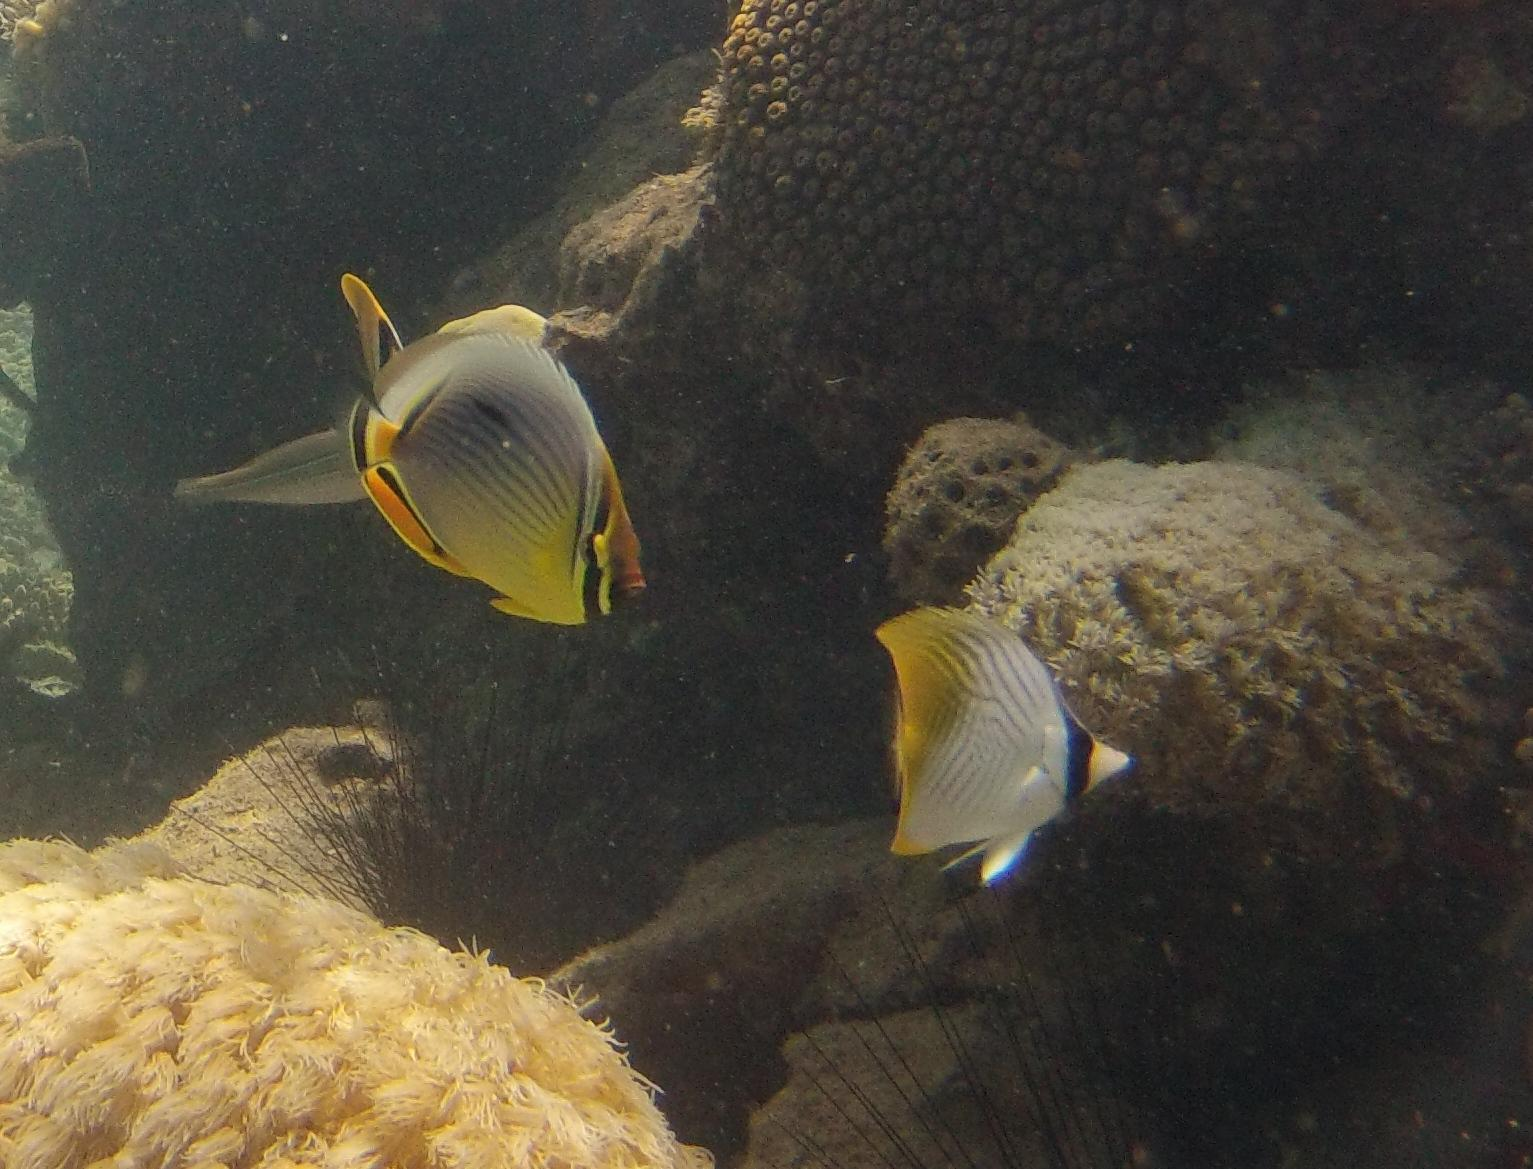Chaetodon trifasciatus: (330, 253, 670, 659)
